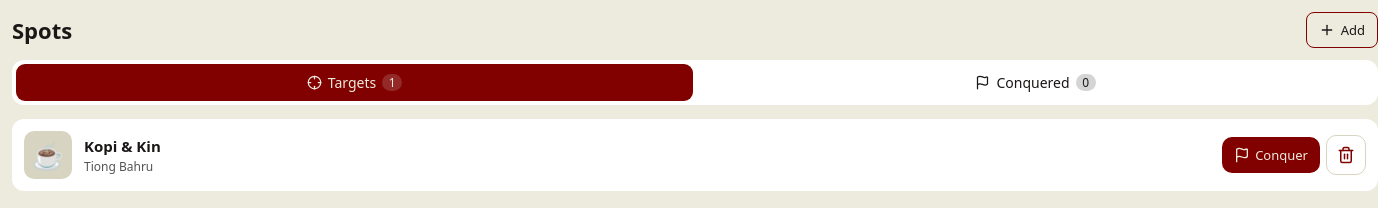
Scenario: an empty Conquered tab tells people how to get something into it
Click the tab "Conquered 0" at (1036, 82), box left=697, top=64, right=1374, bottom=101
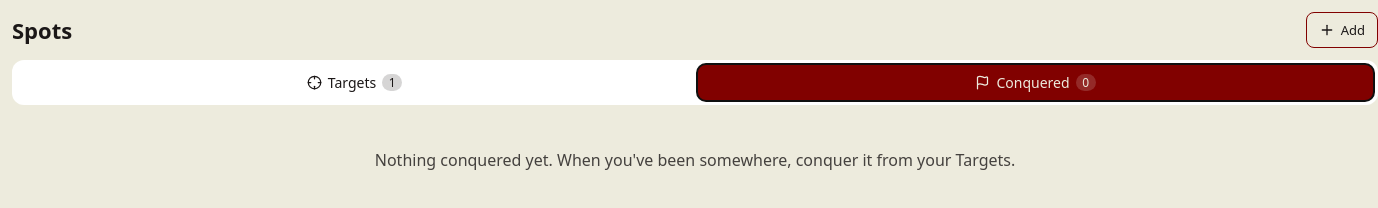
Expected: the text "Nothing conquered yet" is shown, left=375, top=149, right=1015, bottom=171
